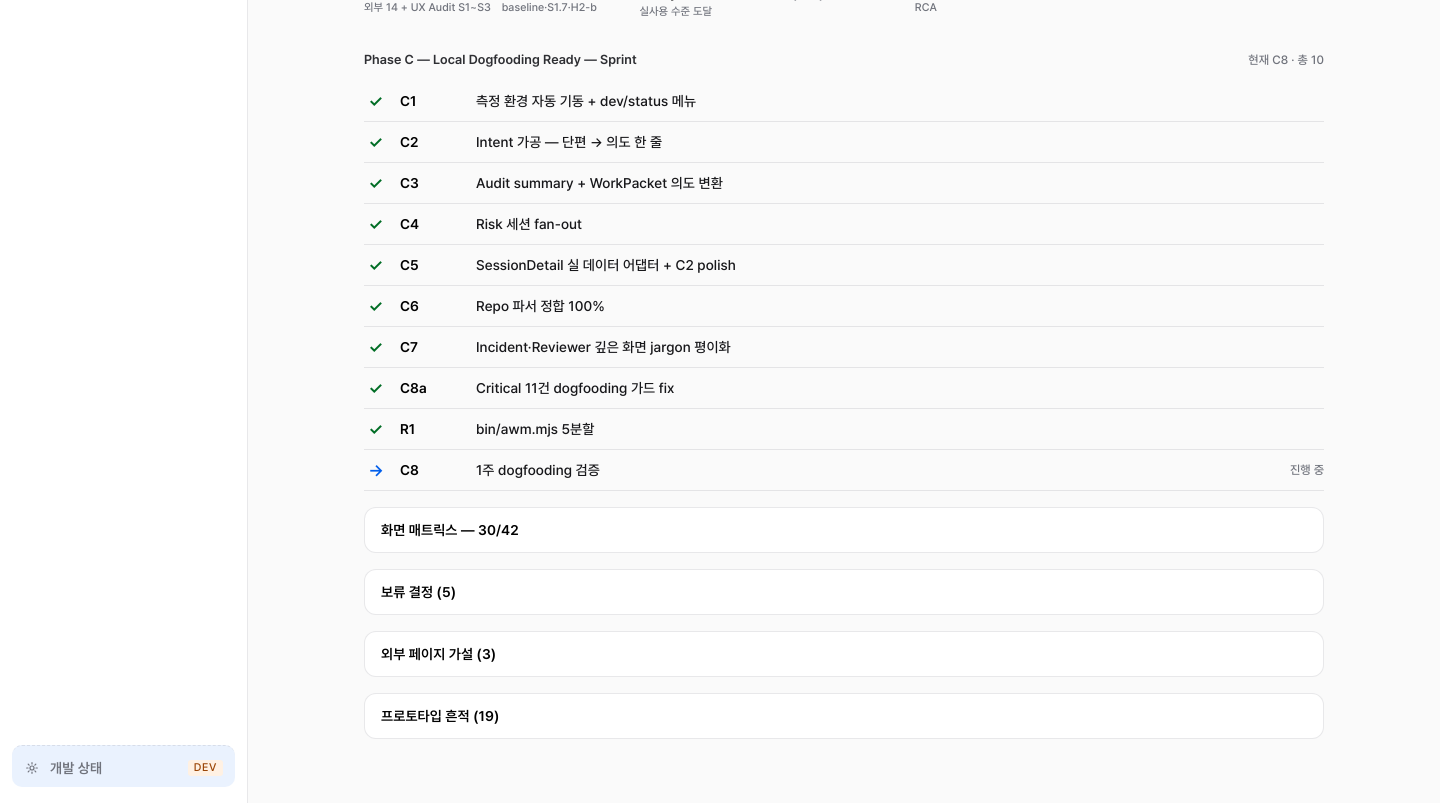
Test: AppShell + product IA › StatusBoard — 외부 페이지 가설 섹션이 PUBLIC_HYPS를 표시한다
The width and height of the screenshot is (1440, 803).
(page scrolled)
Note: 가설 영역 토글 펼치기
Click the heading "외부 페이지 가설 (3)".
click(439, 654)  # box x1=381 y1=646 x2=496 y2=662
(page scrolled)
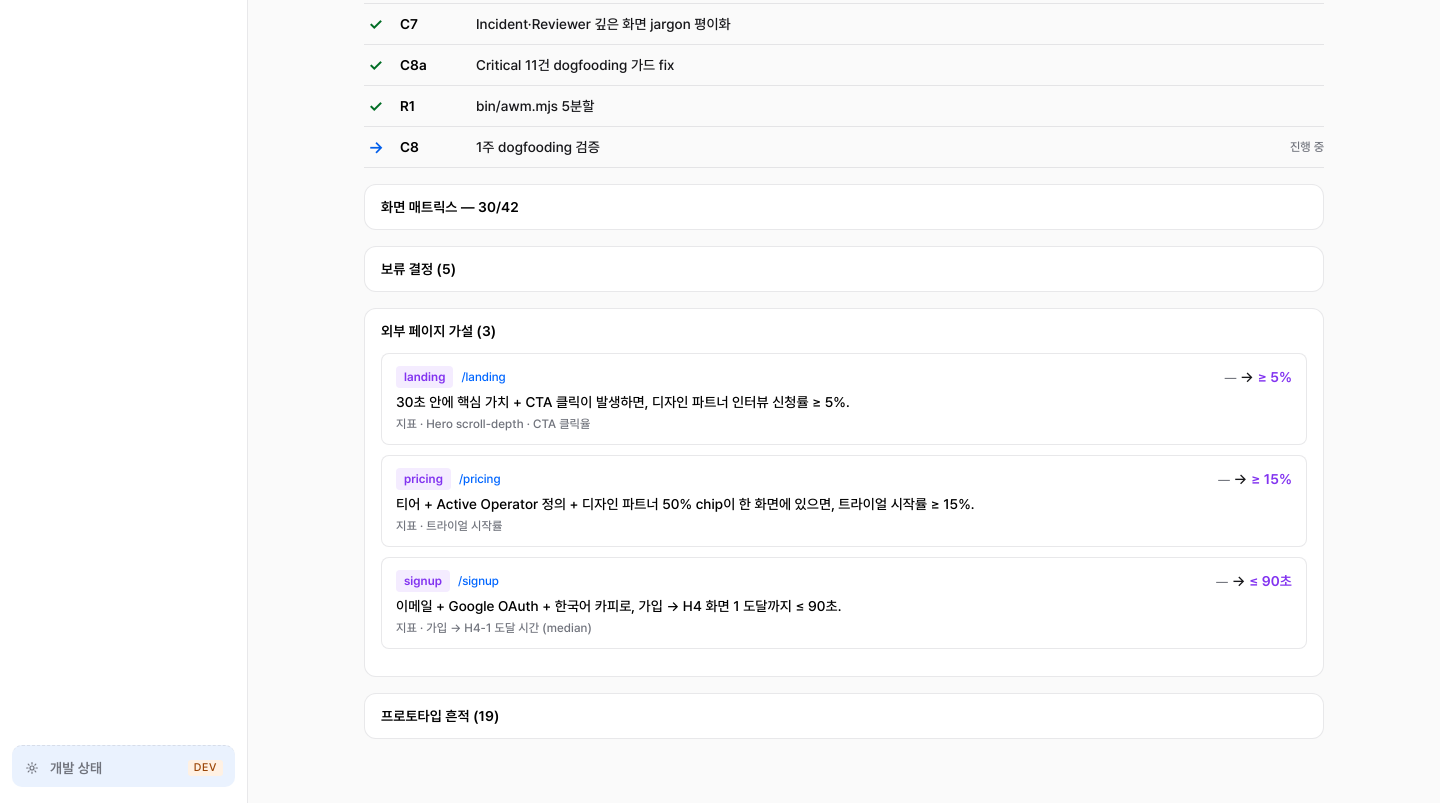
Expected: the text "30초 안에 핵심 가치 + CTA 클릭이 발생하면, 디자인 파트너 인터뷰 신청률 ≥ 5%." is shown, x1=396 y1=394 x2=850 y2=410
Expected: the text "티어 + Active Operator 정의 + 디자인 파트너 50%" is shown, x1=396 y1=496 x2=974 y2=512
Expected: the text "이메일 + Google OAuth + 한국어 카피로, 가입 → H4 화면 1 도달까지 ≤ 90초." is shown, x1=396 y1=598 x2=841 y2=614
